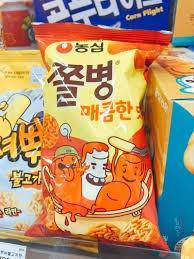snack: (24, 22, 174, 250)
